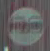No overtake: (5, 4, 49, 46)
